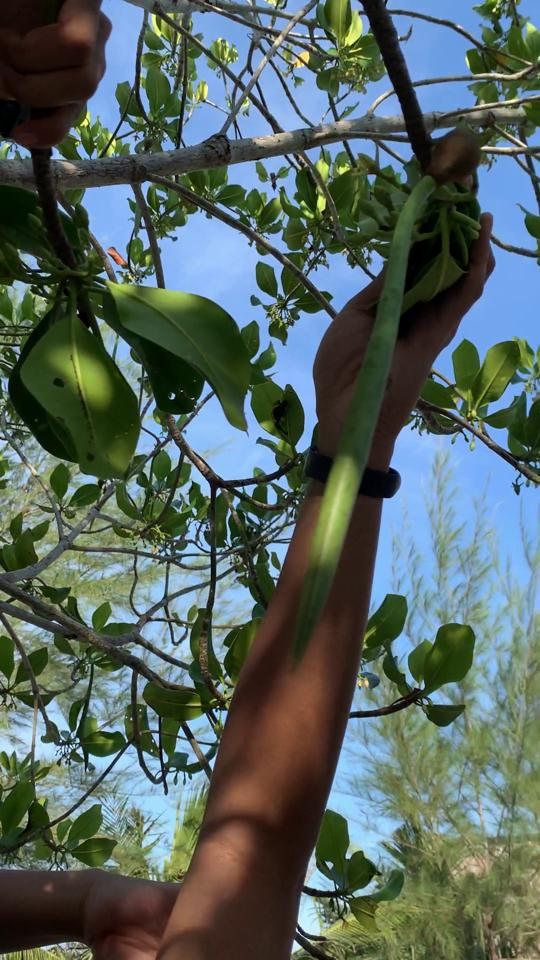mentah: (279, 115, 497, 677)
